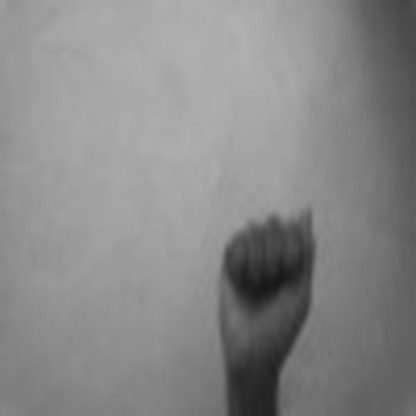a: (214, 193, 322, 373)
